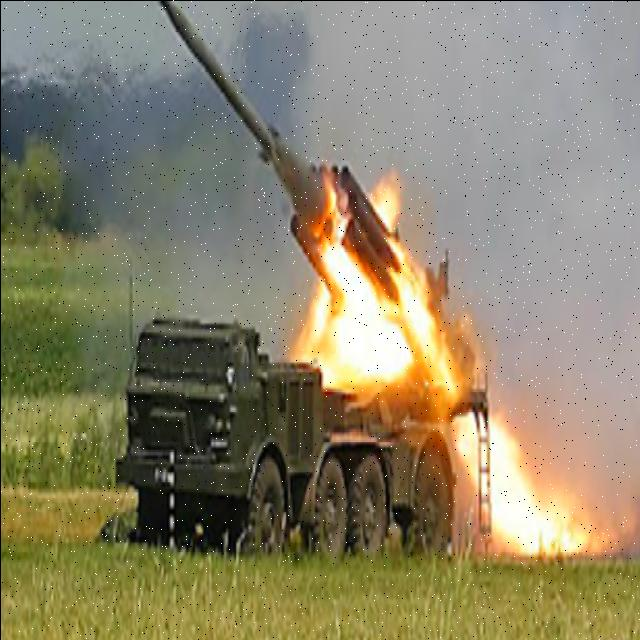MLRS: (105, 157, 491, 567)
